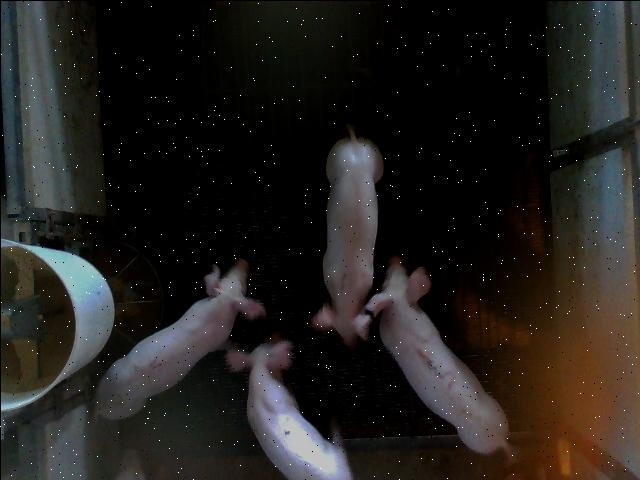pig-3: (355, 255, 509, 452)
